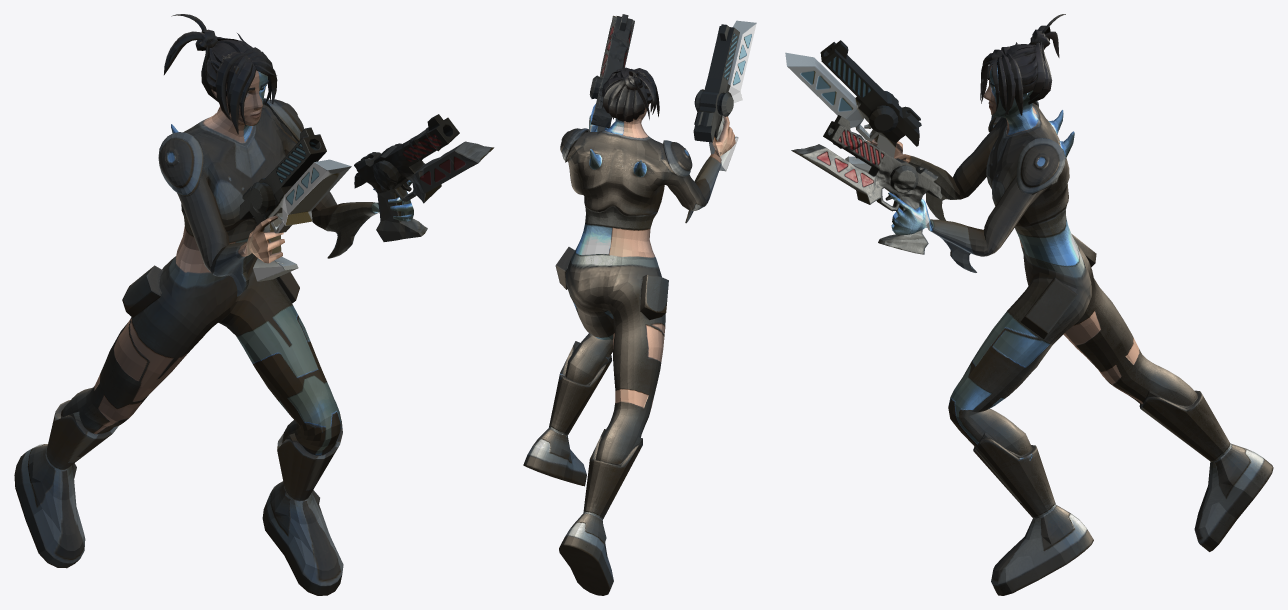
The picture shows the model from 3 angles, left to right: view 1: azimuth 30°, elevation 25°; view 2: azimuth 150°, elevation 25°; view 3: azimuth 270°, elevation 25°; orthographic projection. The views are drawn at different scales.
Visible parts, largest first — view 1: Dex_LOW_Plane.001; view 2: Dex_LOW_Plane.001; view 3: Dex_LOW_Plane.001.
Boxes of the visible parts, x1,y1,x2,y2 form: Dex_LOW_Plane.001: (14,14,494,595); Dex_LOW_Plane.001: (523,14,756,595); Dex_LOW_Plane.001: (785,14,1273,595).
Bounding box in the file's own units: 1.9 × 4.78 × 3.85.
